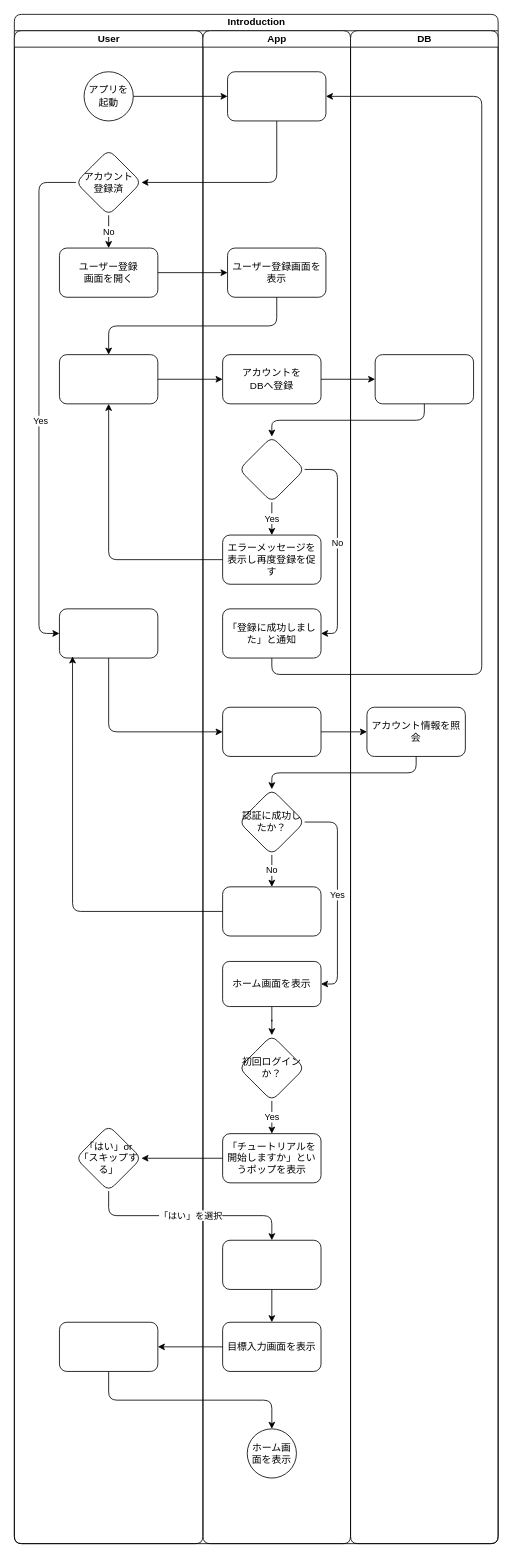
The diagram is 513 pixels wide and 1558 high, and some of its shapes have lost their labels. The shapes that lost their labels are listed below. From the top down, each one's box as (x1, y1, x2, y2) in pixels, then its label:
(227, 71, 326, 121): ログイン画面を表示
(59, 354, 158, 404): ユーザー名(メールアドレス)とパスワードを登録
(374, 354, 474, 404): アカウント を登録
(238, 436, 305, 502): DBへの登録が成功したか？
(59, 608, 158, 658): ユーザー名とパスワードを入力
(222, 706, 321, 756): 入力を受け取り認証処理を行う
(222, 886, 321, 936): エラーメッセージを通知し再度入力を促す
(222, 1239, 321, 1289): チュートリアルを開始
(59, 1321, 158, 1371): 目標を入力
